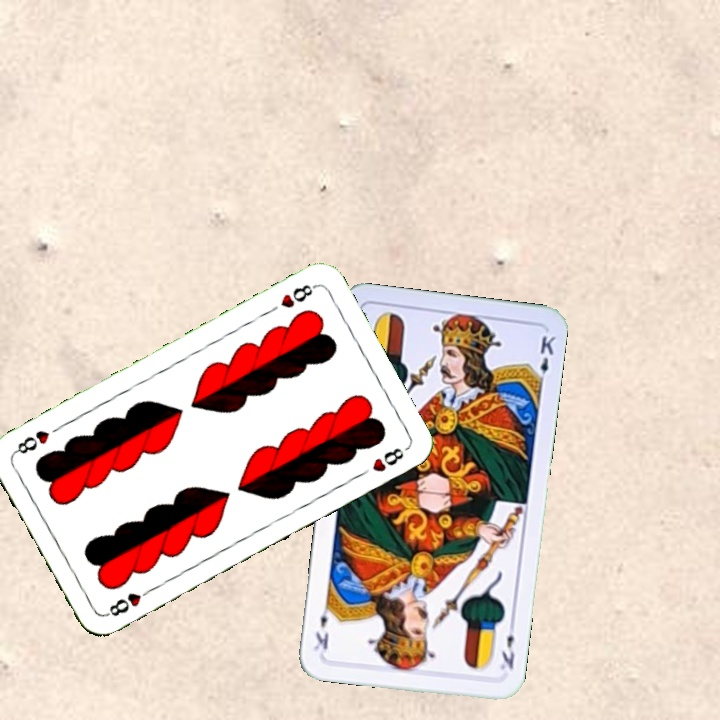EK: (496, 618, 517, 673)
H8: (101, 584, 156, 620), (276, 280, 319, 311)
